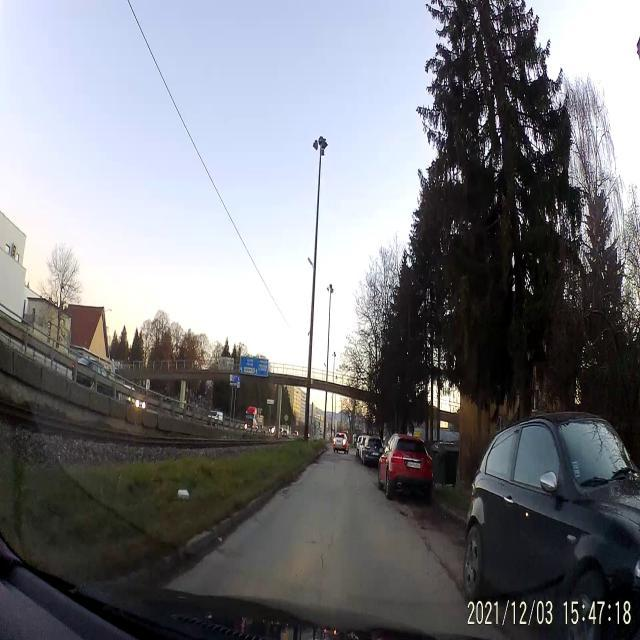Pothole: (400, 506, 408, 518)
